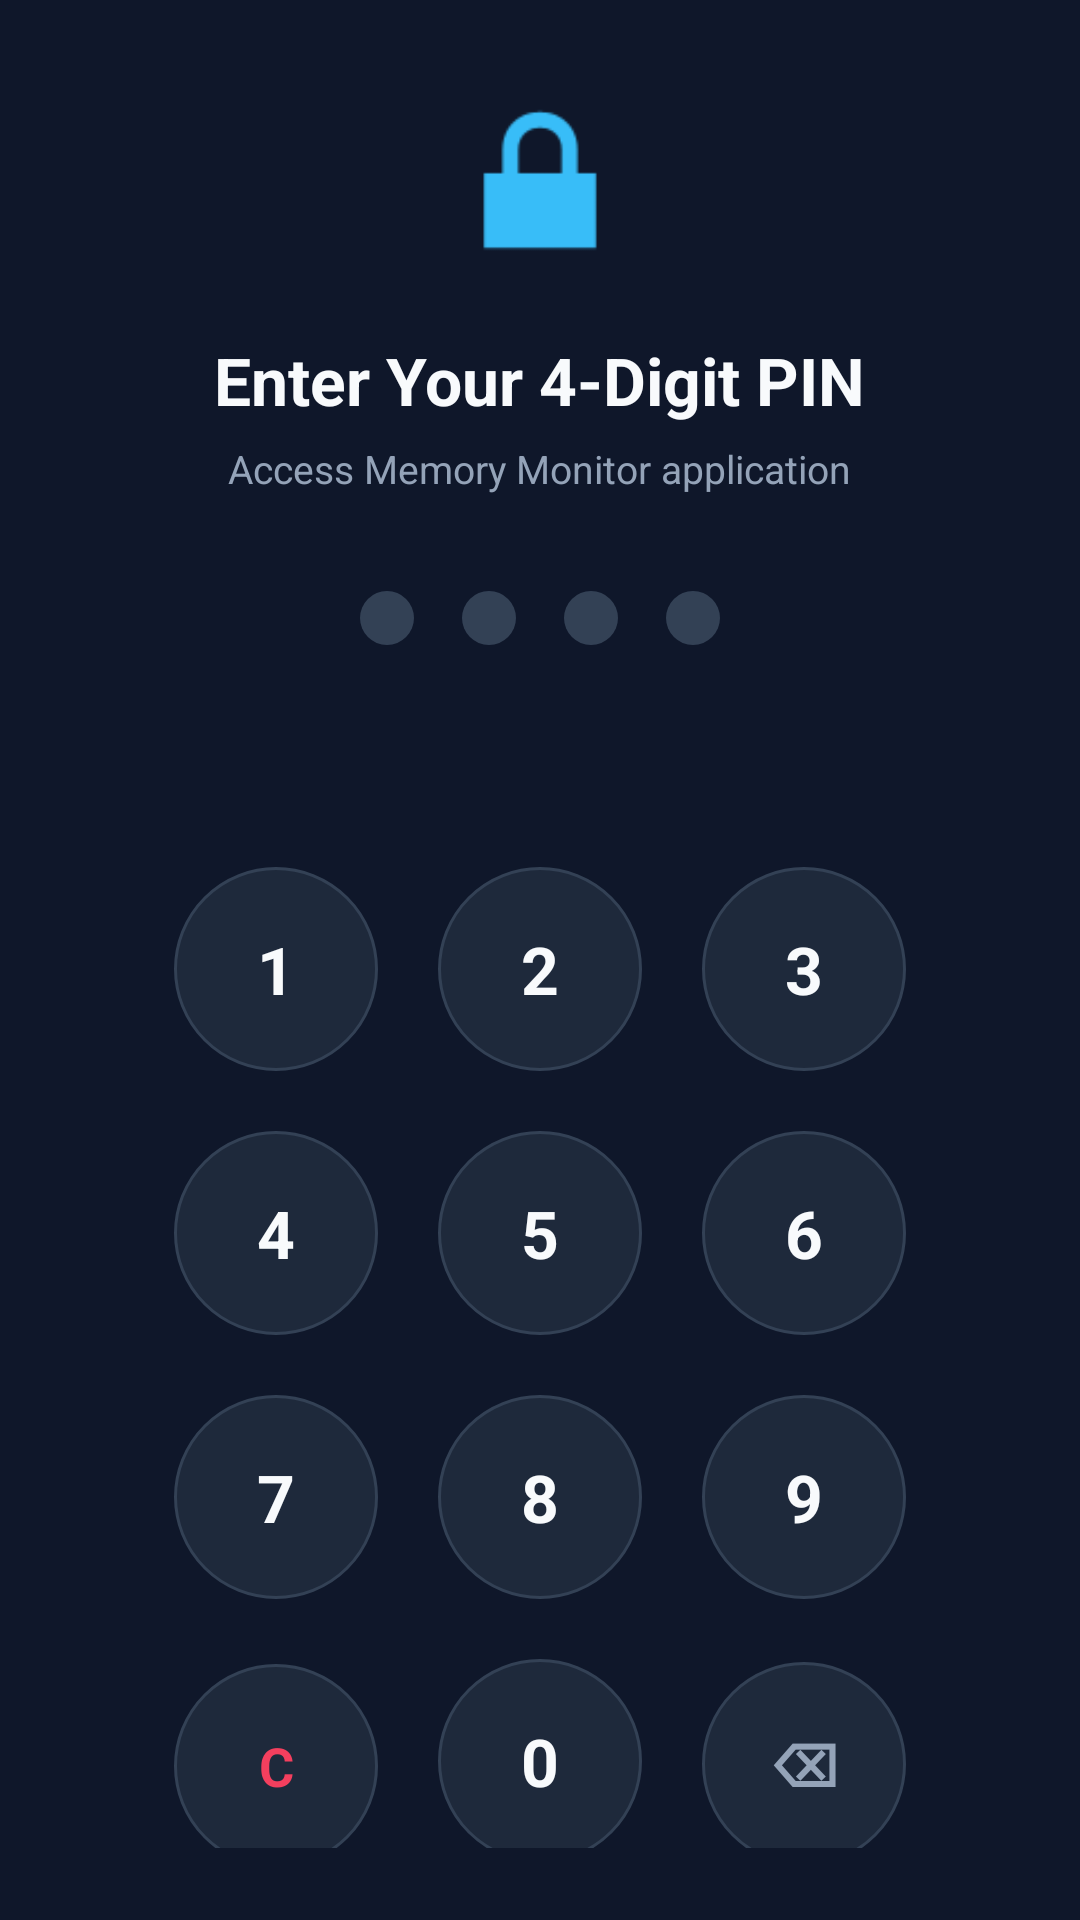

Locate icon controls on the screen. Image size 1080px×1920px, boxes as (x1, y1, x2, y2).
App Lock Shield: (483, 110, 597, 250)
